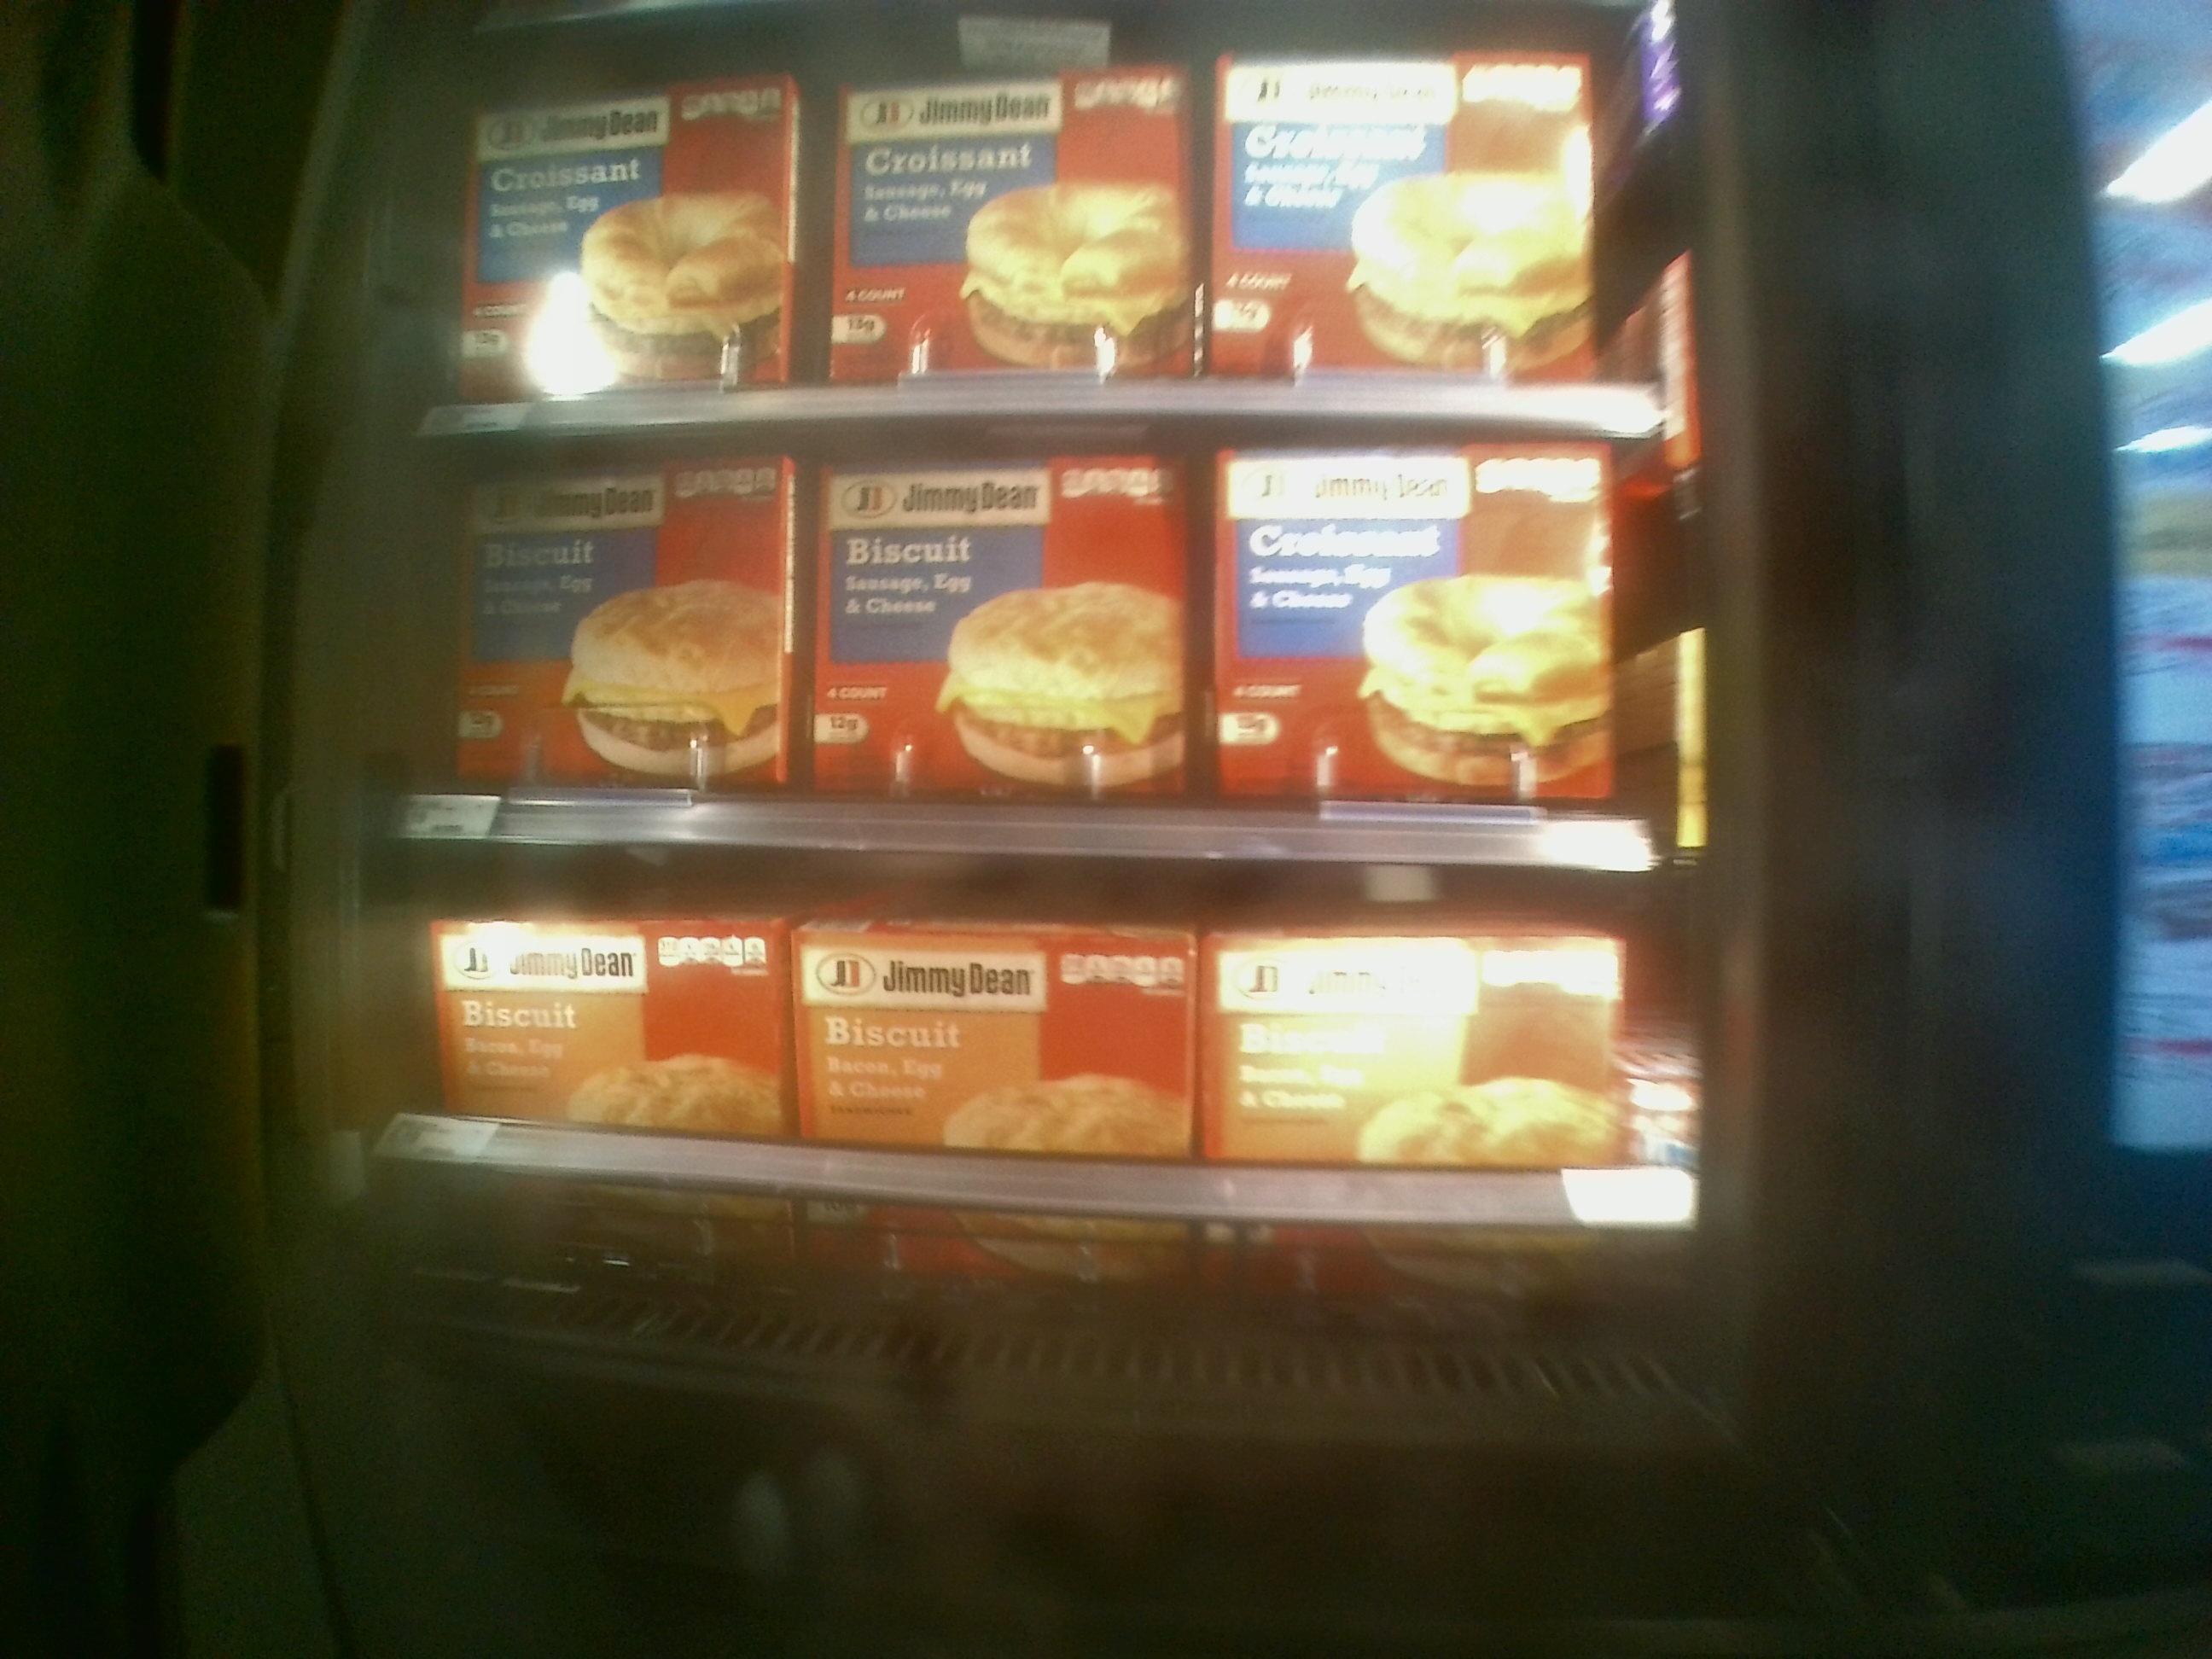shelf: (374, 842, 1707, 1333), (376, 430, 1709, 842)
